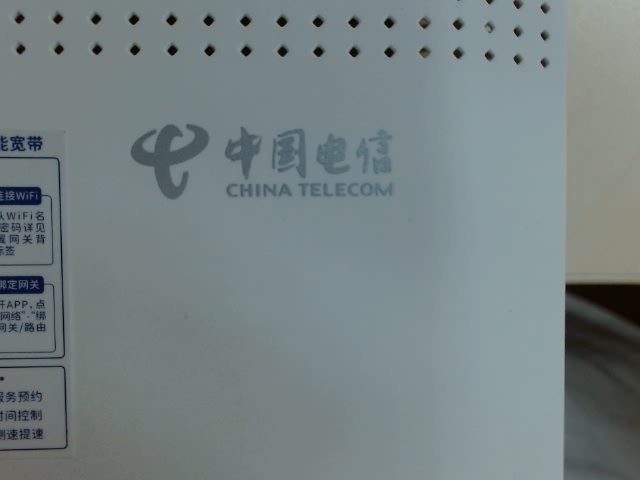ChinaTelecom1: (124, 110, 404, 215)
